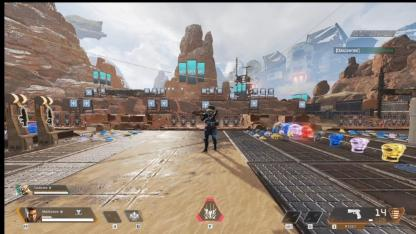Target: (202, 104, 216, 154)
